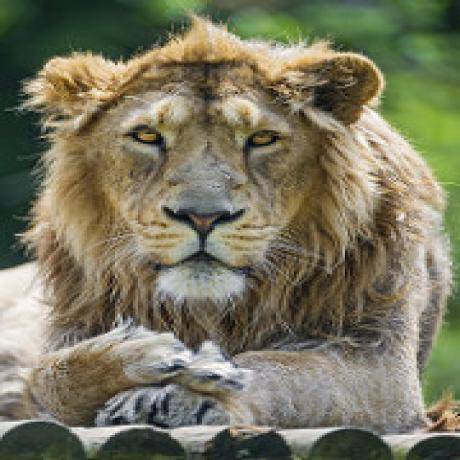Lion: (1, 10, 460, 420)
